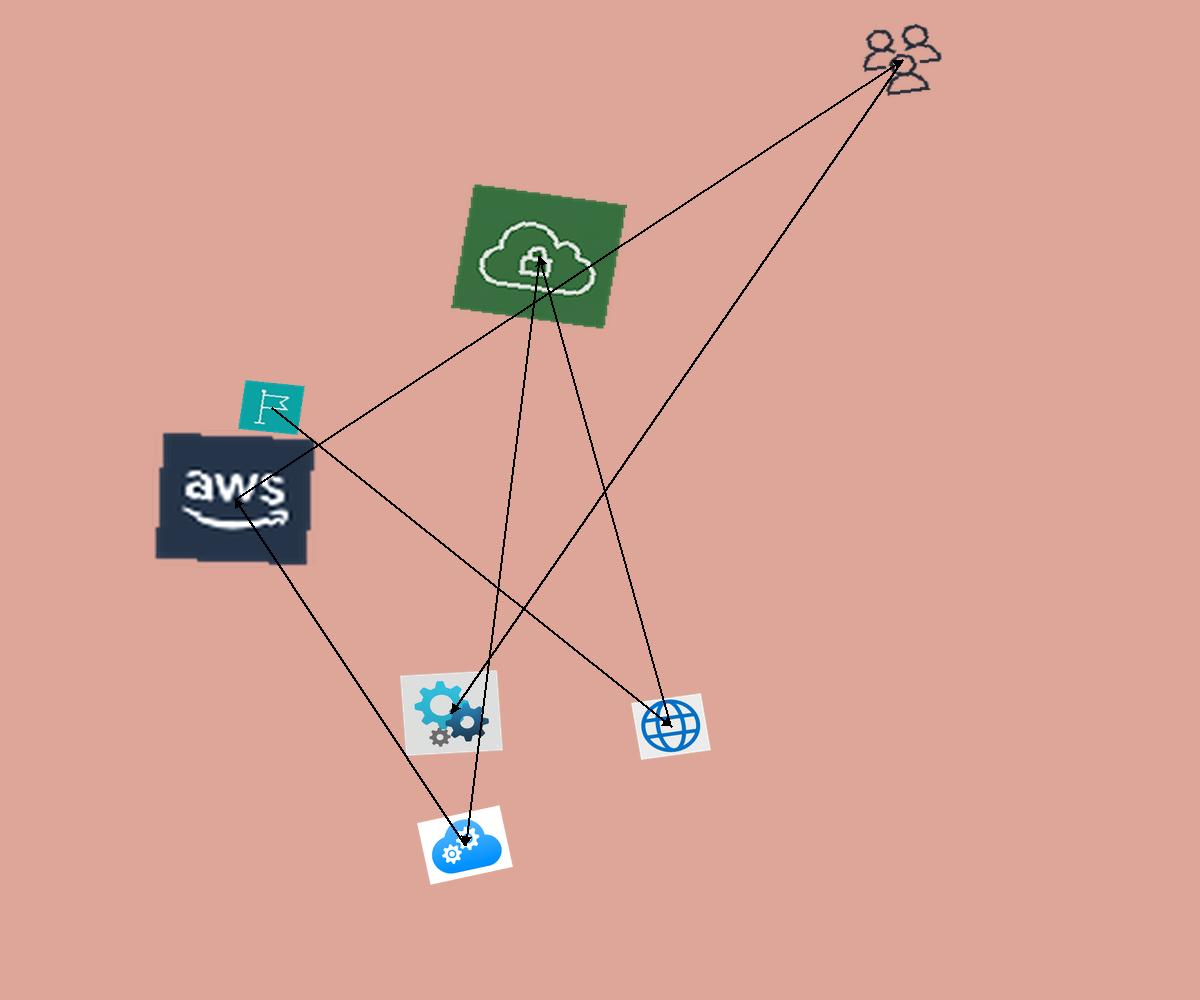AWS-Cloud-logo: (152, 430, 318, 568)
AWS-Private_vpc: (451, 183, 627, 330)
AWS-Region: (238, 380, 305, 435)
AWS-Res_Users: (852, 18, 952, 102)
Azure_api: (400, 670, 503, 756)
Azure_cloud_services: (417, 805, 513, 885)
Azure_http: (631, 693, 711, 760)
